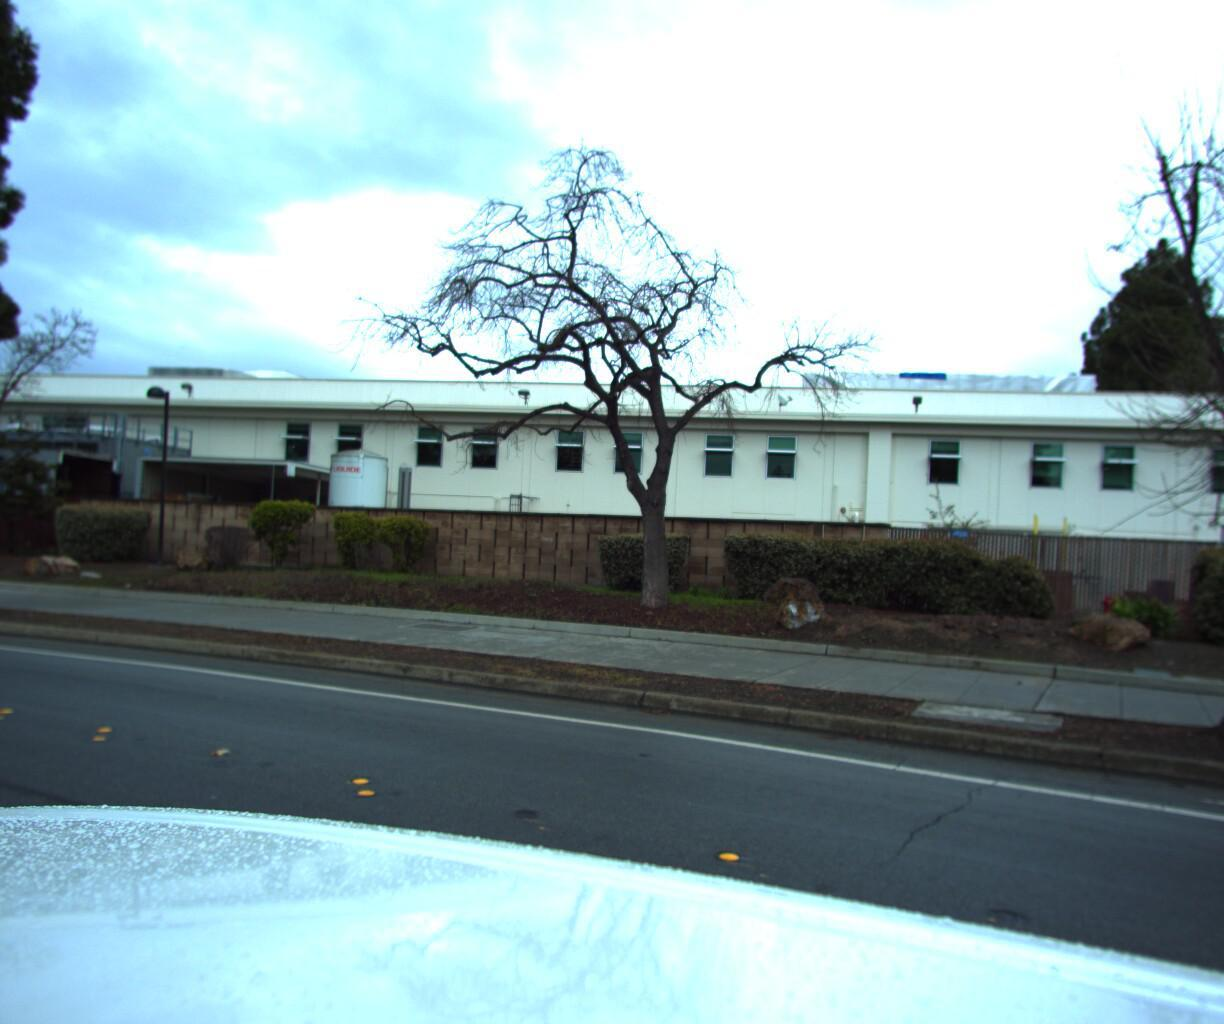truck: (0, 434, 127, 543)
